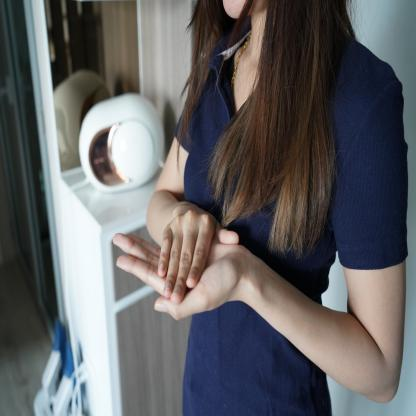Love: (106, 197, 250, 323)
